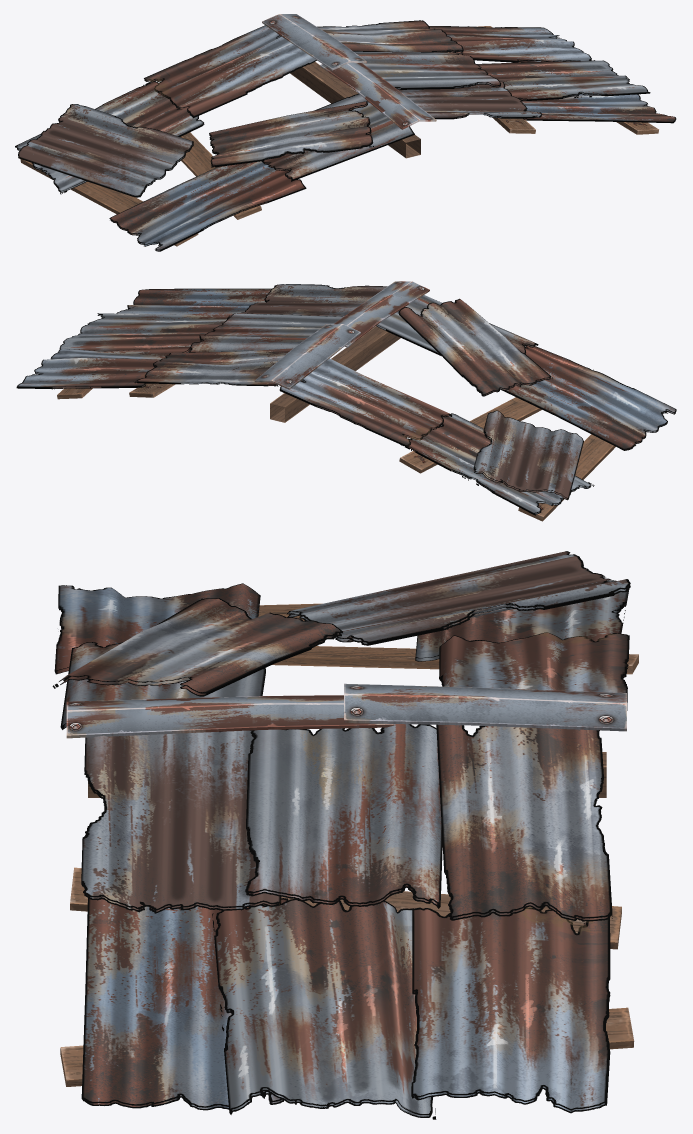
The model's file is roof05_6m_C.fbx.
3 renders of one model, top to bottom at view 1: azimuth 30°, elevation 25°; view 2: azimuth 150°, elevation 25°; view 3: azimuth 270°, elevation 25°, orthographic. The views are drawn at different scales.
Parts seen in each view (by area): view 1: roof05_6m_C; view 2: roof05_6m_C; view 3: roof05_6m_C.
Part boxes in pixels (x1,y1,x2,y2): roof05_6m_C: (15, 14, 676, 251); roof05_6m_C: (16, 281, 676, 521); roof05_6m_C: (52, 551, 638, 1119).
Bounding box in the file's own units: 739 × 108 × 341.
